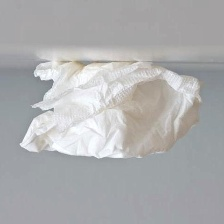tissue: (15, 51, 209, 166)
